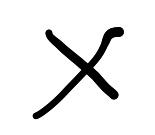mult: (33, 27, 124, 119)
